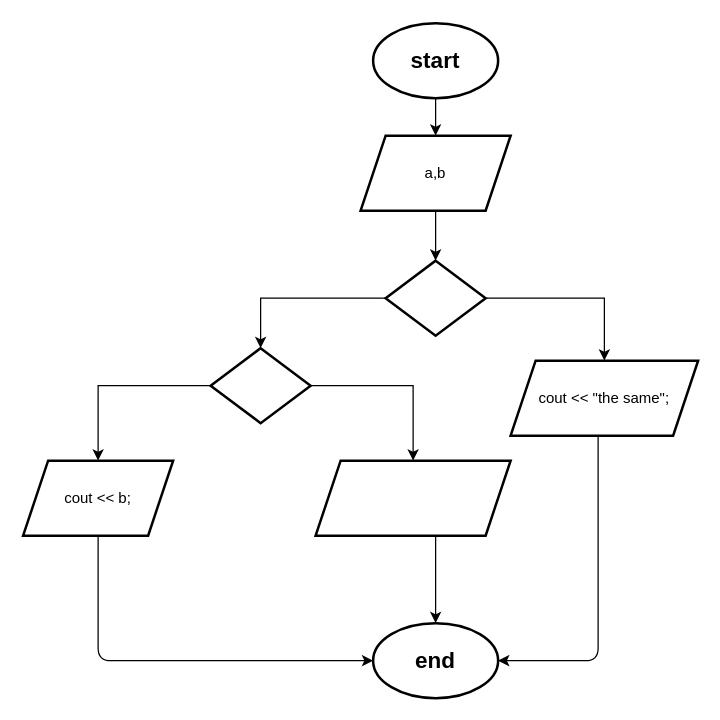
This 720x720 diagram has some shape labels left out. The shapes that lost their labels are listed below. From the top down, each one's box as (x1, y1, x2, y2) in pixels, then its label:
(384, 259, 486, 336): a = b
(209, 346, 311, 424): a > b
(314, 459, 511, 536): cout << a;
